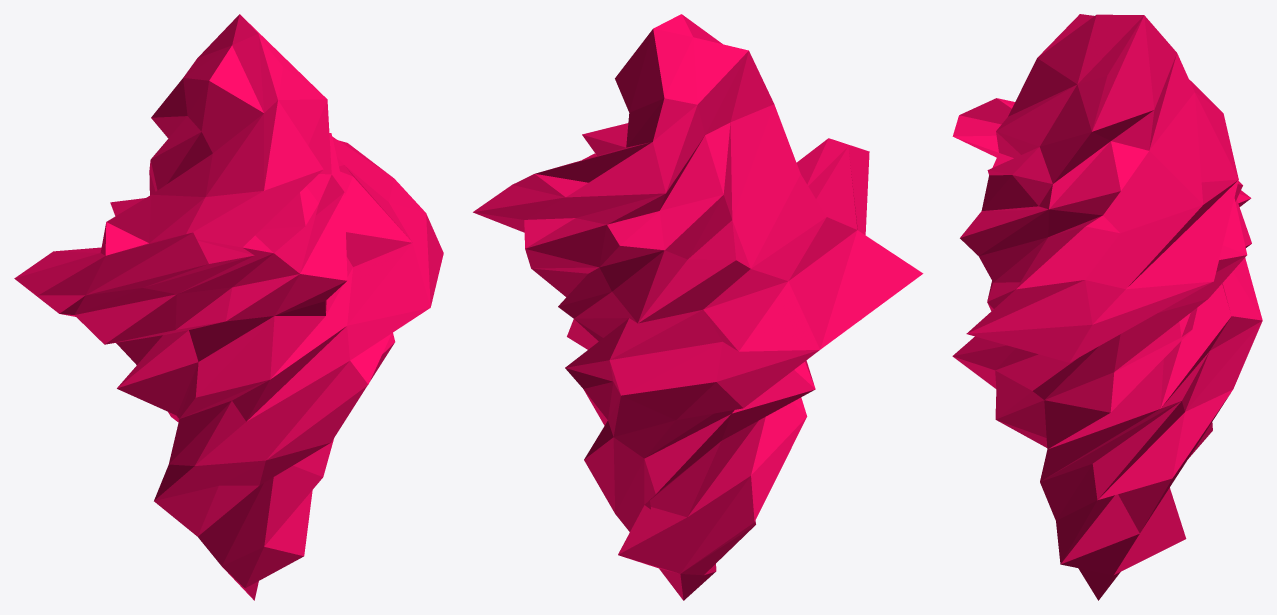
The model's file is Crystal_018.fbx.
The picture shows the model from 3 angles, left to right: view 1: azimuth 30°, elevation 25°; view 2: azimuth 150°, elevation 25°; view 3: azimuth 270°, elevation 25°; orthographic projection. The views are drawn at different scales.
Parts seen in each view (by area): view 1: Crystal.018; view 2: Crystal.018; view 3: Crystal.018.
Boxes of the visible parts, x1=… form: Crystal.018: x1=14, y1=14, x2=443, y2=600; Crystal.018: x1=473, y1=14, x2=923, y2=600; Crystal.018: x1=952, y1=14, x2=1262, y2=600.
Size of the model in its own units: 326 by 443 by 211.
